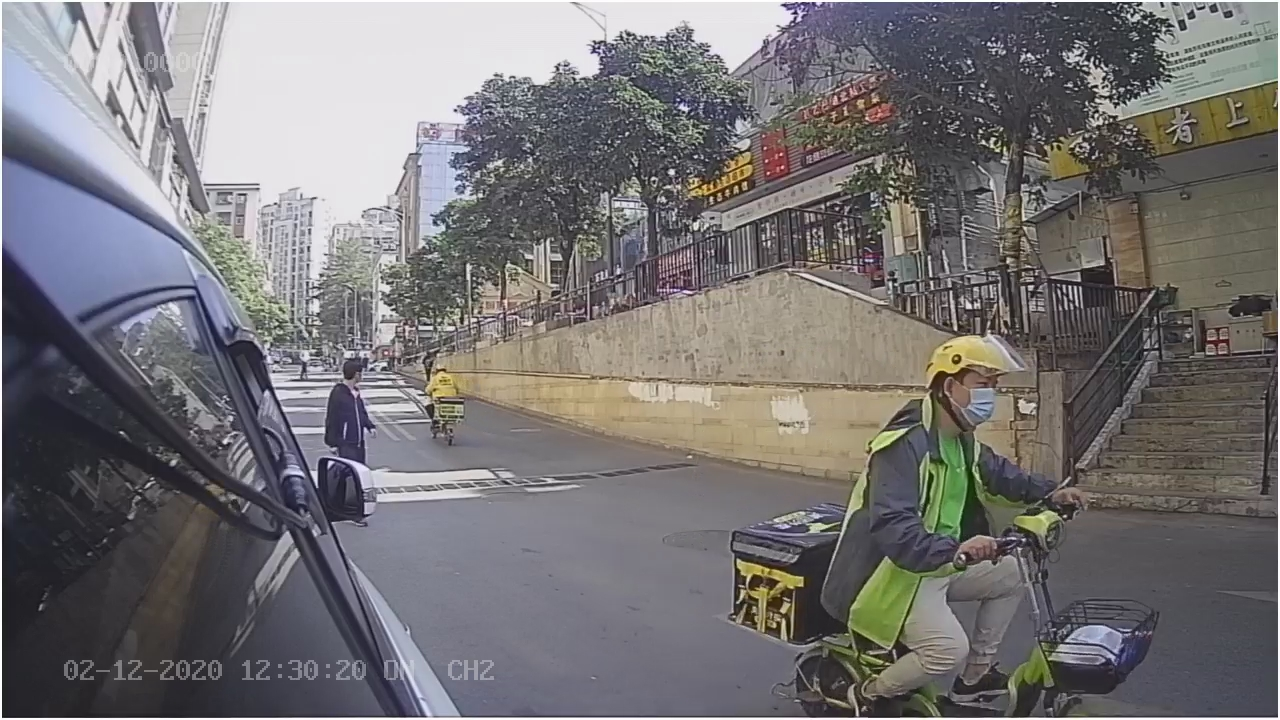person: (846, 333, 1036, 563)
